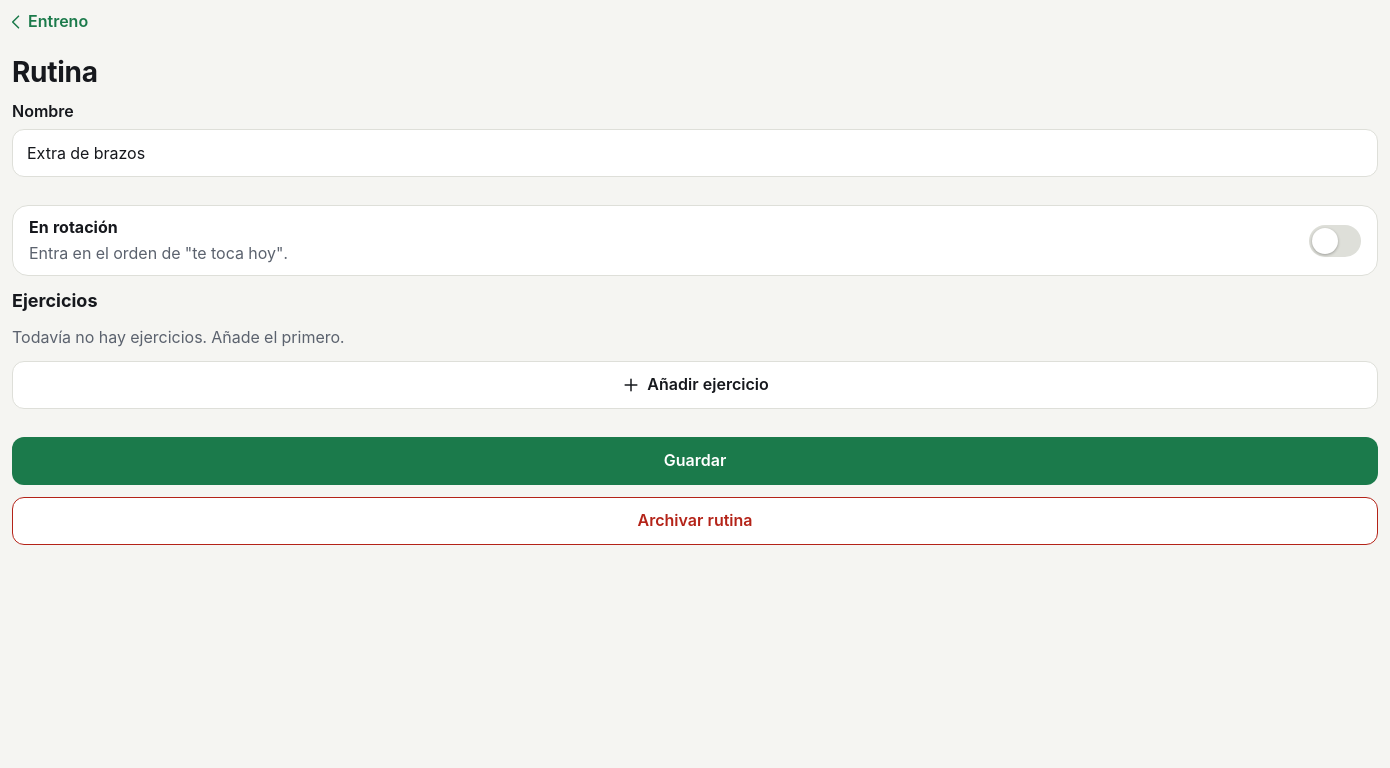
Test: Editor de rutina: guardar › al meter en la rotación una rutina que no estaba, va al final de la rotación
Expected: the field labelled "Nombre" is shown, [12, 129, 1378, 177]
Step 1. Click the switch labelled "En rotación" → (73, 227), box [12, 205, 1378, 276]
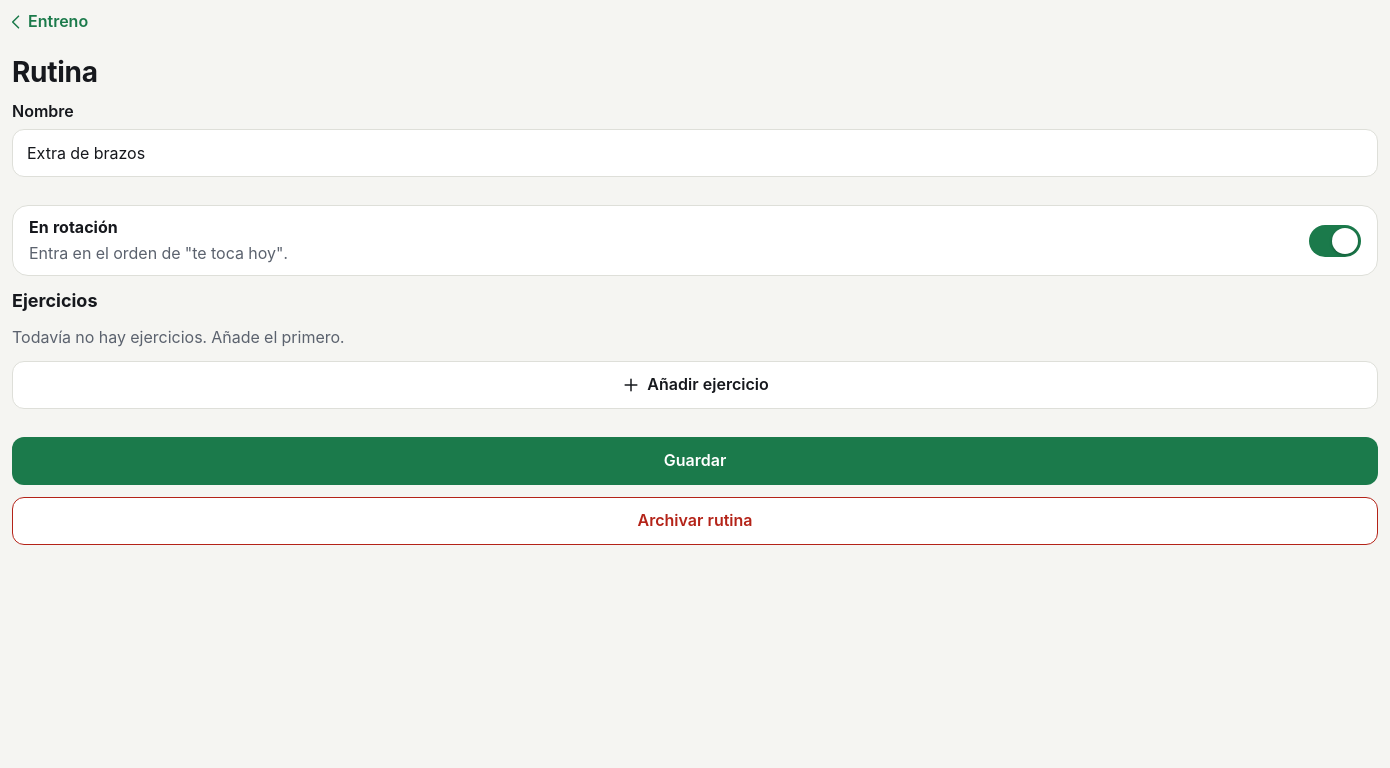
Step 2. Click the button "Guardar" → (695, 461), box [12, 437, 1378, 485]
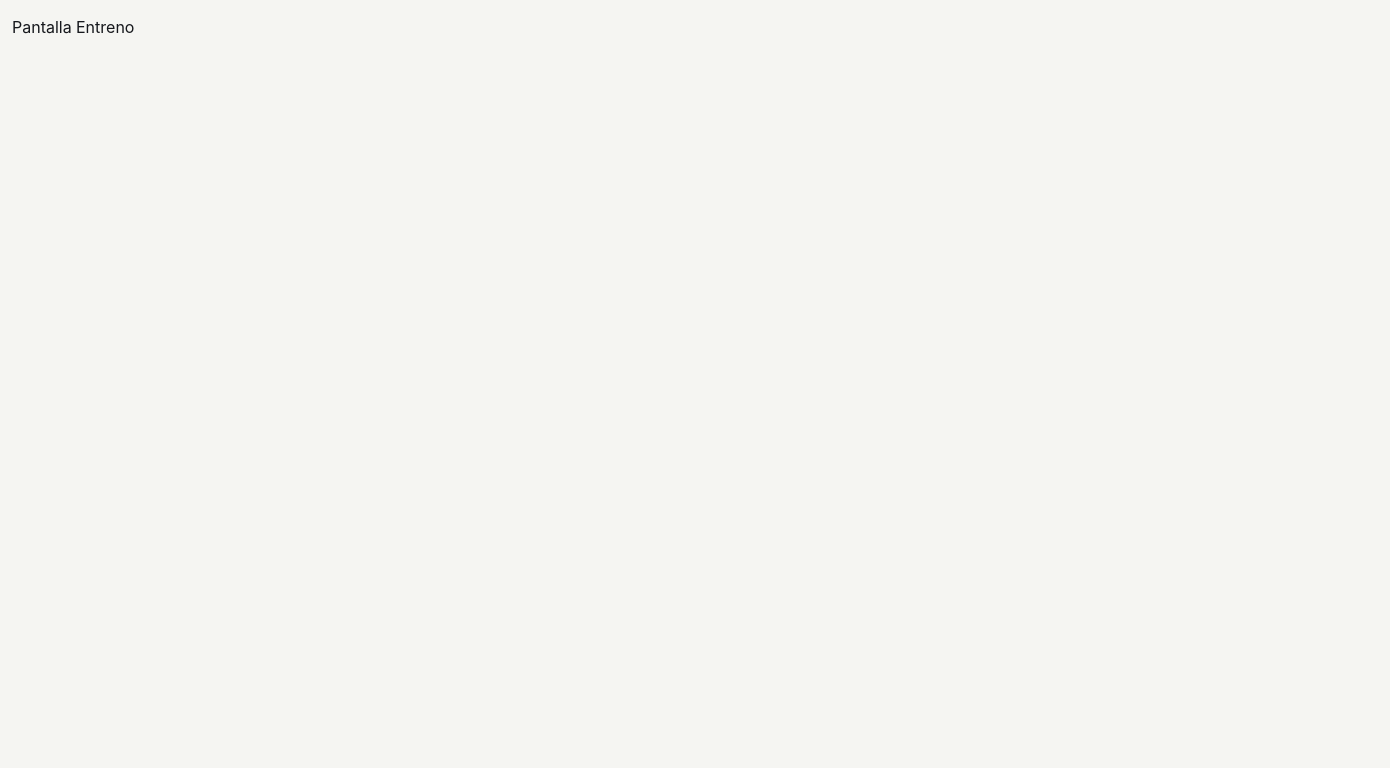
Expected: the text "Pantalla Entreno" is shown, [12, 17, 134, 37]
